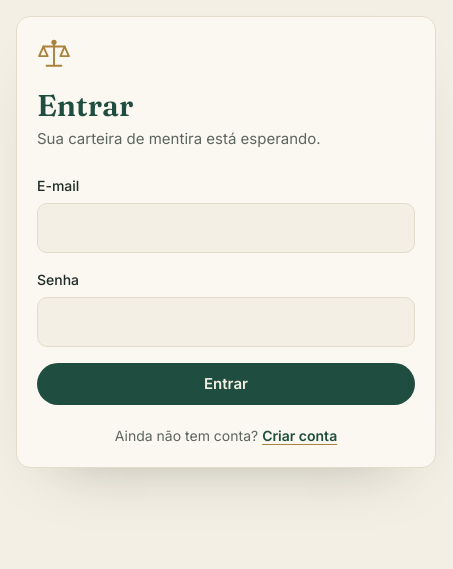
it: Entrar › mostra o erro quando e-mail ou senha não batem, e deixa tentar de novo
Type "ana@exemplo.com" into the field labelled "E-mail" at (226, 228), box [37, 204, 415, 253]
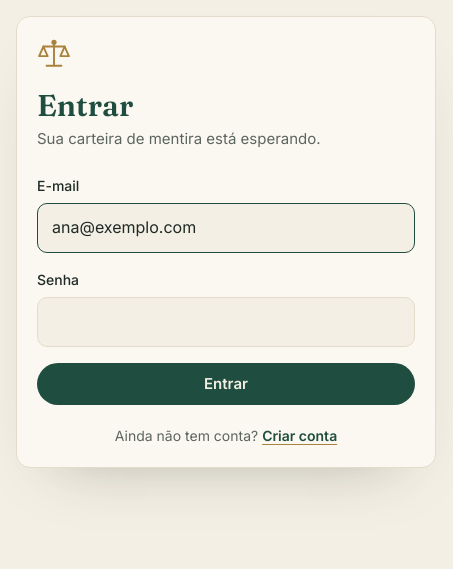
Type "errada-errada" into the password field labelled "Senha" at (226, 322), box [37, 298, 415, 347]
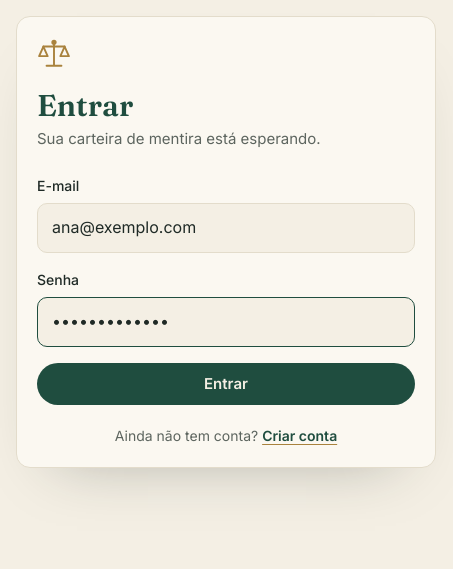
Click the button "Entrar" at (226, 384), box [37, 363, 415, 405]
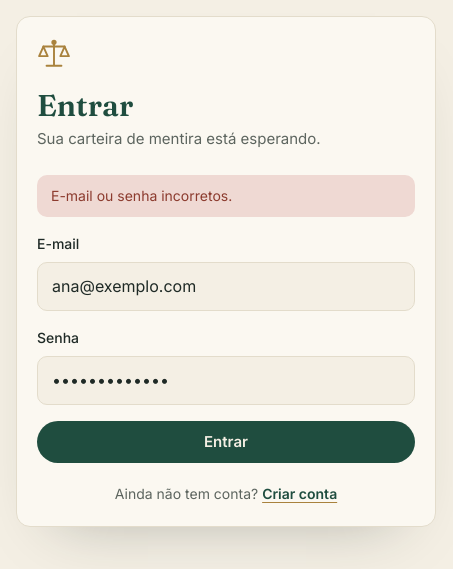
Expected: the button "Entrar" is enabled, [37, 422, 415, 464]
Expected: the message reads "E-mail ou senha incorretos.", [51, 187, 232, 204]
